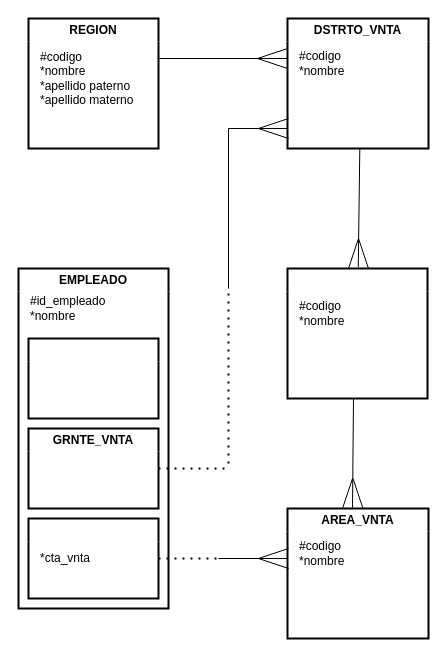
This 446x656 diagram has some shape labels left out. Each missing label, with the box of its shape:
DRCTOR_VNTA: (27, 337, 159, 419)
TRRTRIO_VNTA: (286, 267, 428, 399)
VENDEDOR: (27, 517, 159, 599)
